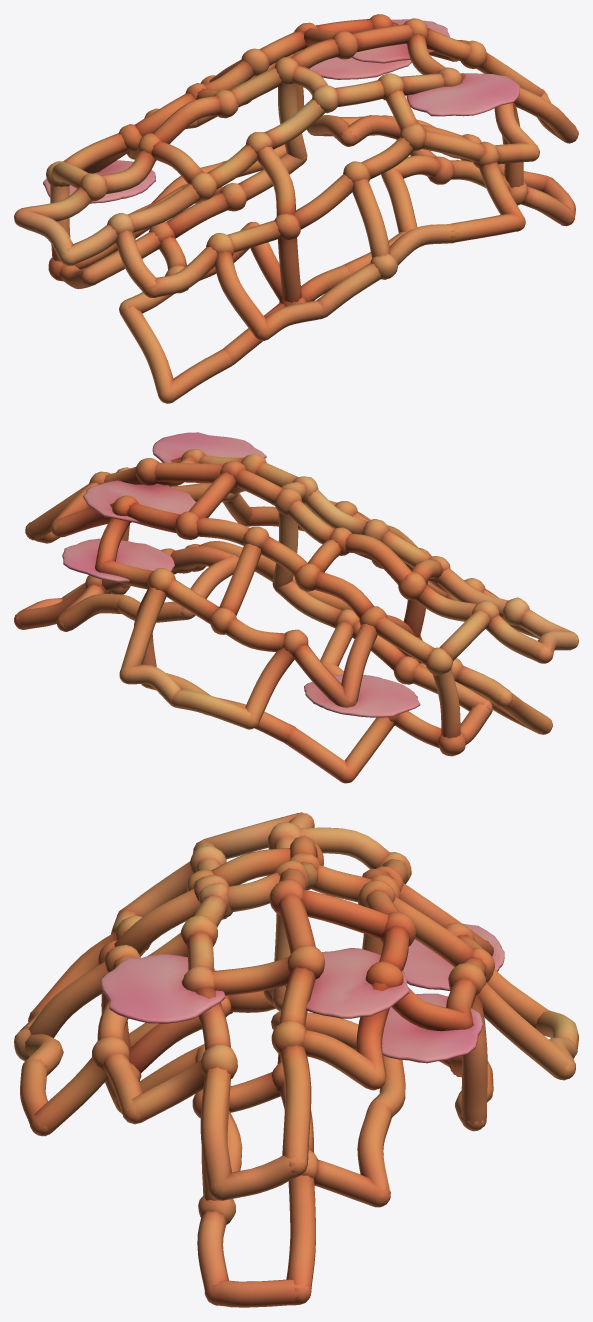
File: smooth-er.glb
The picture shows the model from 3 angles, top to bottom: view 1: azimuth 30°, elevation 25°; view 2: azimuth 150°, elevation 25°; view 3: azimuth 270°, elevation 25°; orthographic projection. The views are drawn at different scales.
Parts seen in each view (by area): view 1: smooth-er-tubules, smooth-er-sheets; view 2: smooth-er-tubules, smooth-er-sheets; view 3: smooth-er-tubules, smooth-er-sheets.
Part boxes in pixels (x1,y1,x2,y2): smooth-er-tubules: (14,14,578,403); smooth-er-sheets: (43,19,519,203); smooth-er-tubules: (14,449,578,783); smooth-er-sheets: (62,432,420,717); smooth-er-tubules: (14,812,578,1307); smooth-er-sheets: (100,923,504,1063).
Size of what is drawn, in the model's own units: 4.4 by 2.04 by 2.99.
